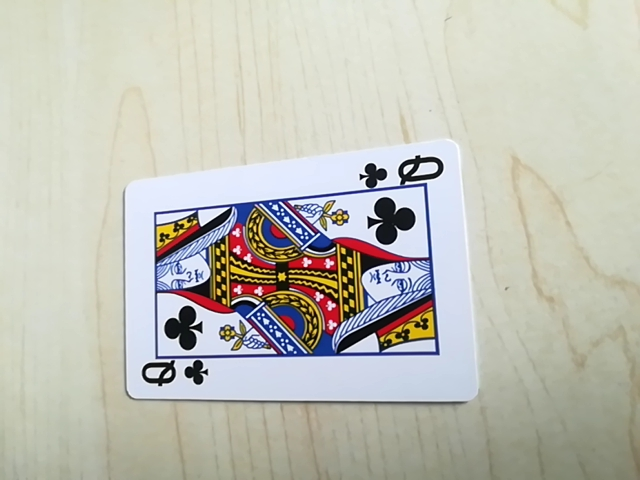mh q: (359, 153, 451, 191), (135, 353, 212, 397)
